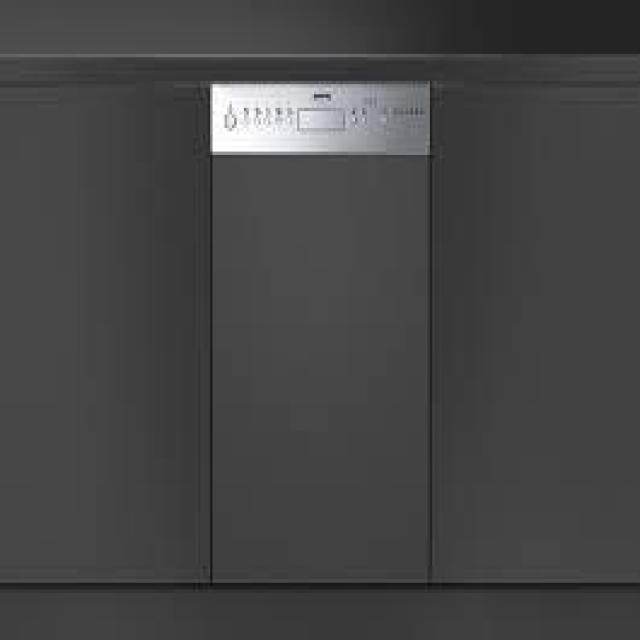dishwasher: (208, 74, 428, 579)
